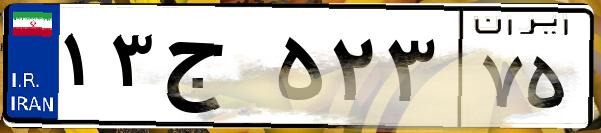1: (57, 26, 110, 100)
2: (330, 28, 385, 110)
3: (385, 28, 445, 110), (110, 28, 158, 98)
5: (270, 28, 330, 110), (525, 38, 570, 115)
7: (475, 38, 525, 113)
ج: (158, 20, 270, 120)
